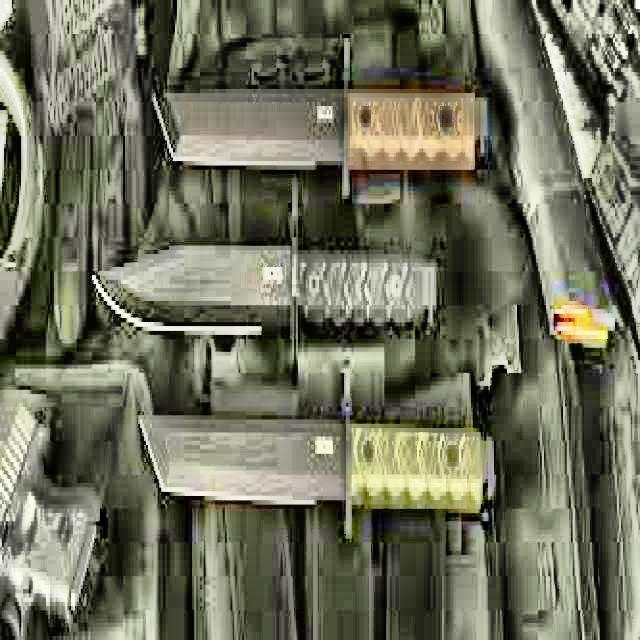knife: (86, 230, 441, 368), (132, 396, 496, 530), (142, 54, 487, 179)
